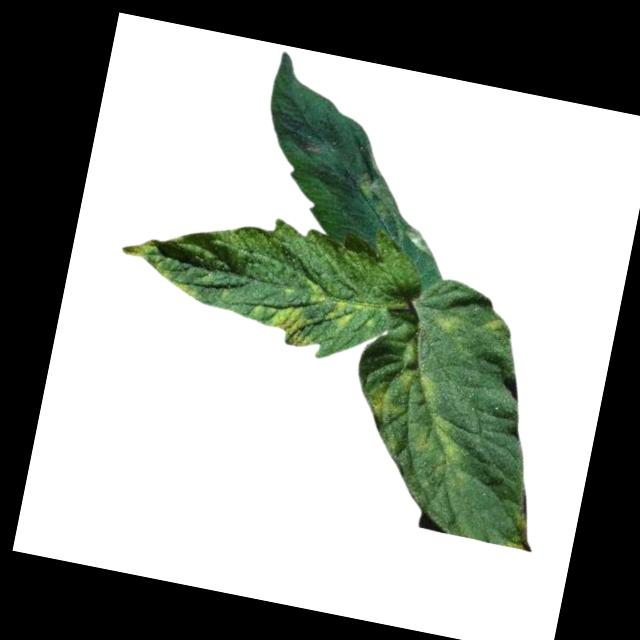Leaf_Mold: (348, 169, 445, 257), (410, 411, 479, 485), (260, 300, 318, 350), (359, 383, 404, 420), (324, 296, 363, 335), (119, 233, 161, 265), (434, 311, 471, 340), (299, 278, 329, 306), (483, 316, 507, 337)
